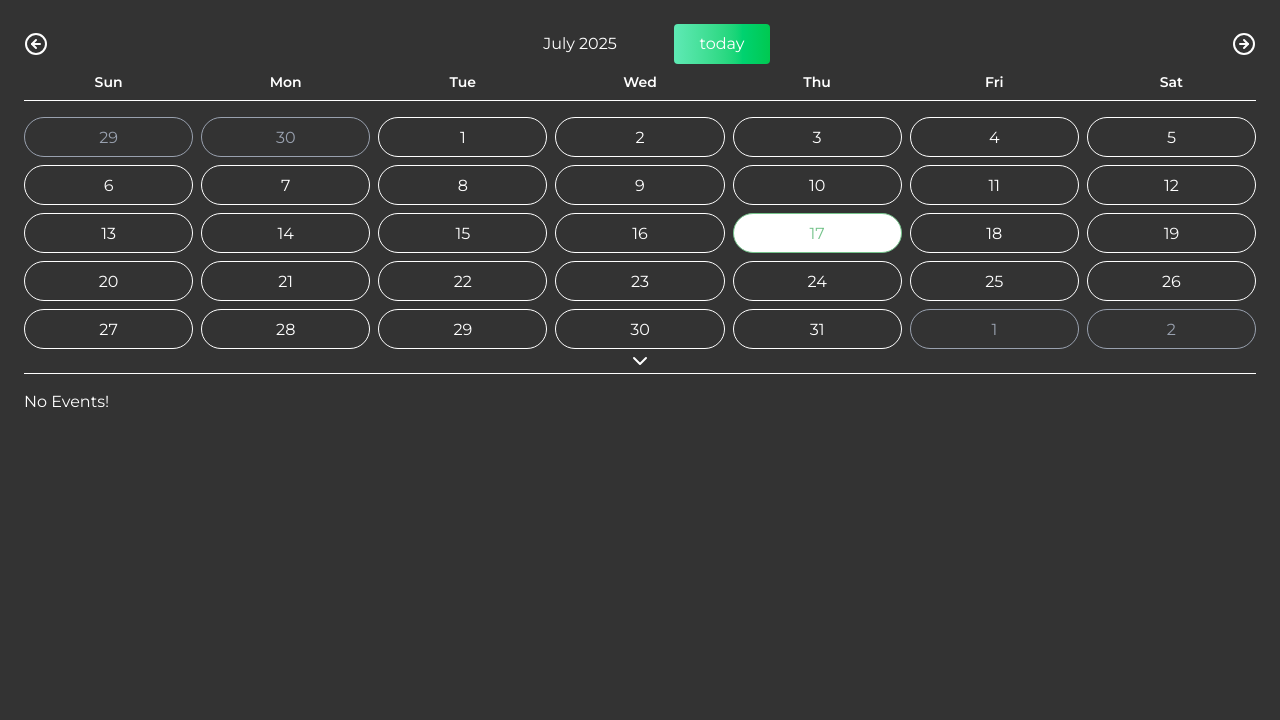
Test: Calendar Page › Calendar Render › expands the calendar when navigating months while minimized
The image size is (1280, 720).
Expected: the text "July 2025" is shown, [543,34,617,53]
Click the button named "minimize or expand calendar". click: (640, 361)
box: [24,349,1256,373]
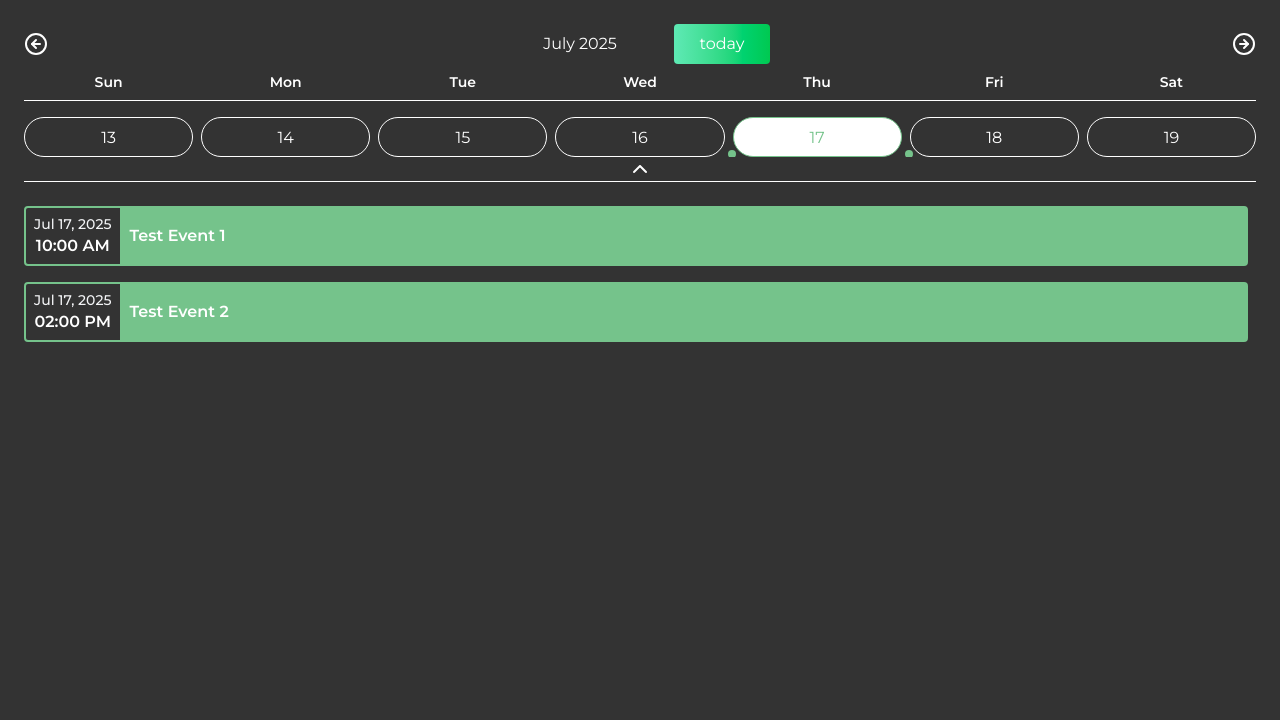
Click the button named "go to next month". click: (1244, 44)
box: [1232,24,1256,64]
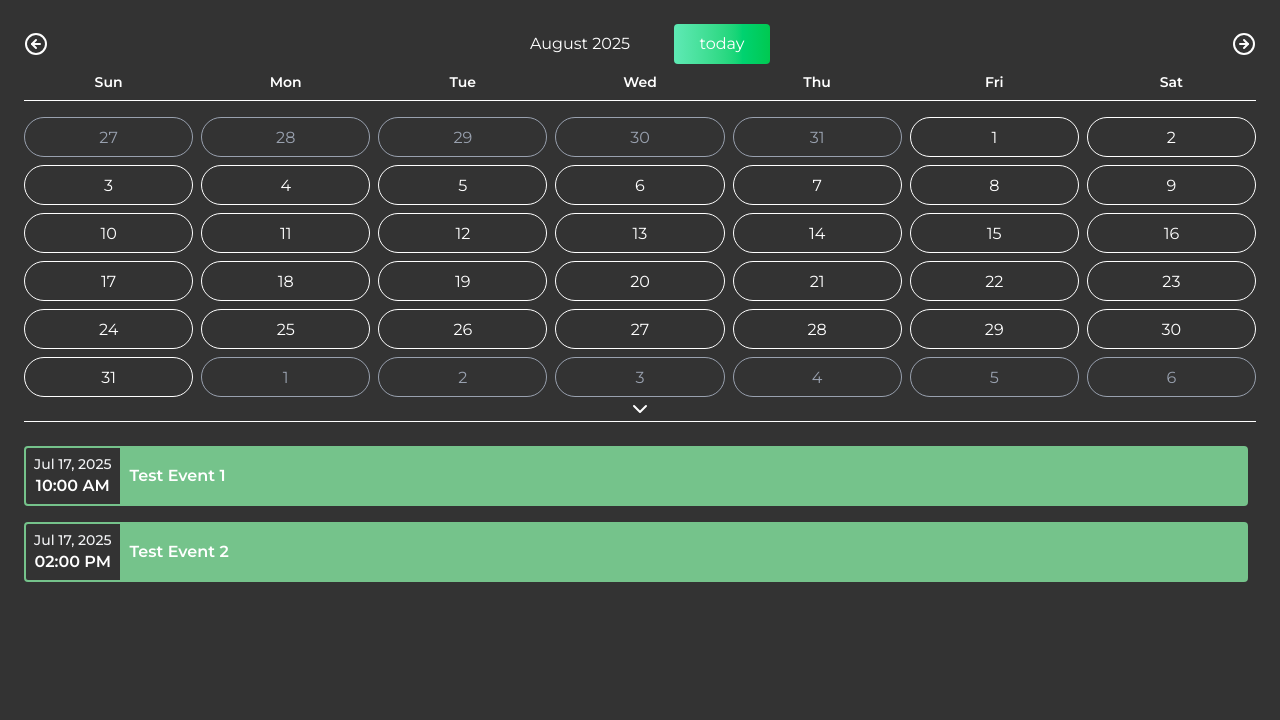
Expected: the text "August 2025" is shown, [530,34,630,53]
Expected: the 2nd button "31" is shown, [24,357,193,397]
